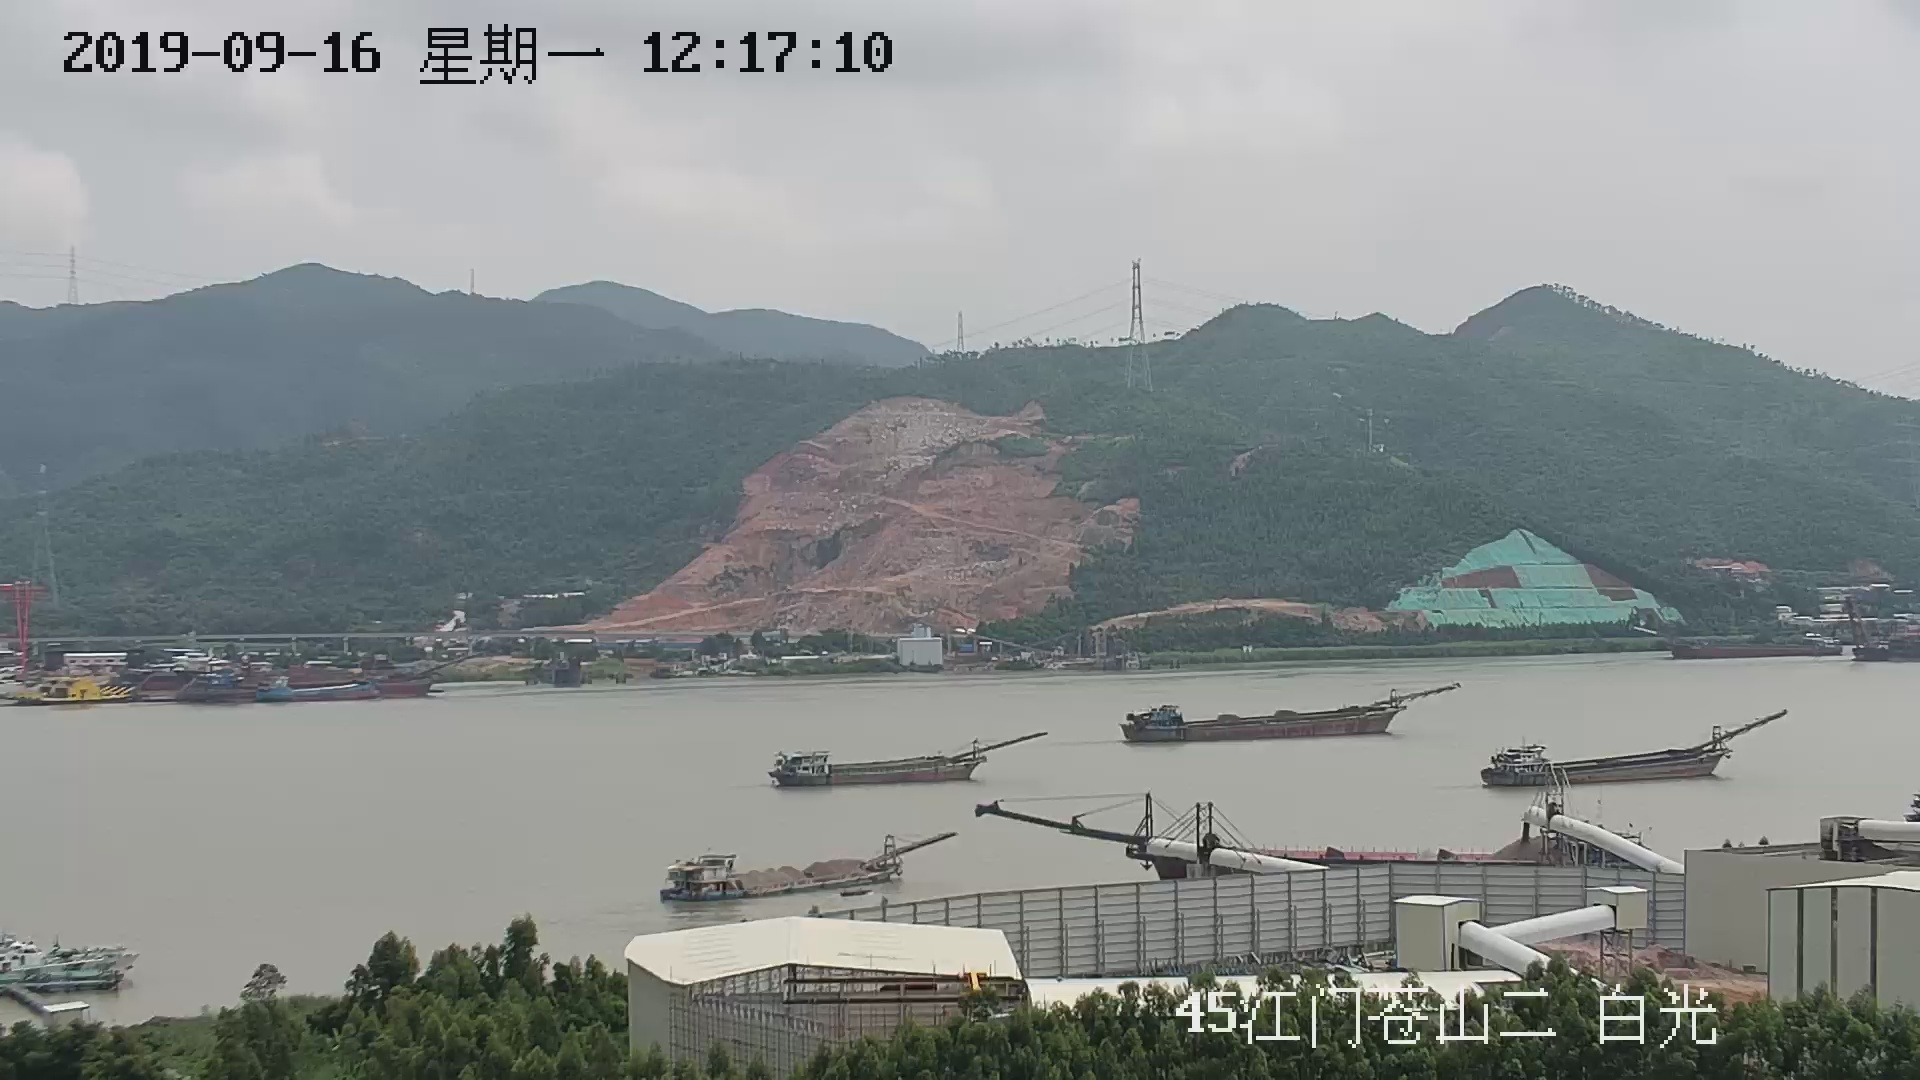ship: (1480, 702, 1782, 790), (661, 825, 952, 903), (1121, 678, 1453, 742), (767, 720, 1047, 789), (7, 934, 135, 992)
